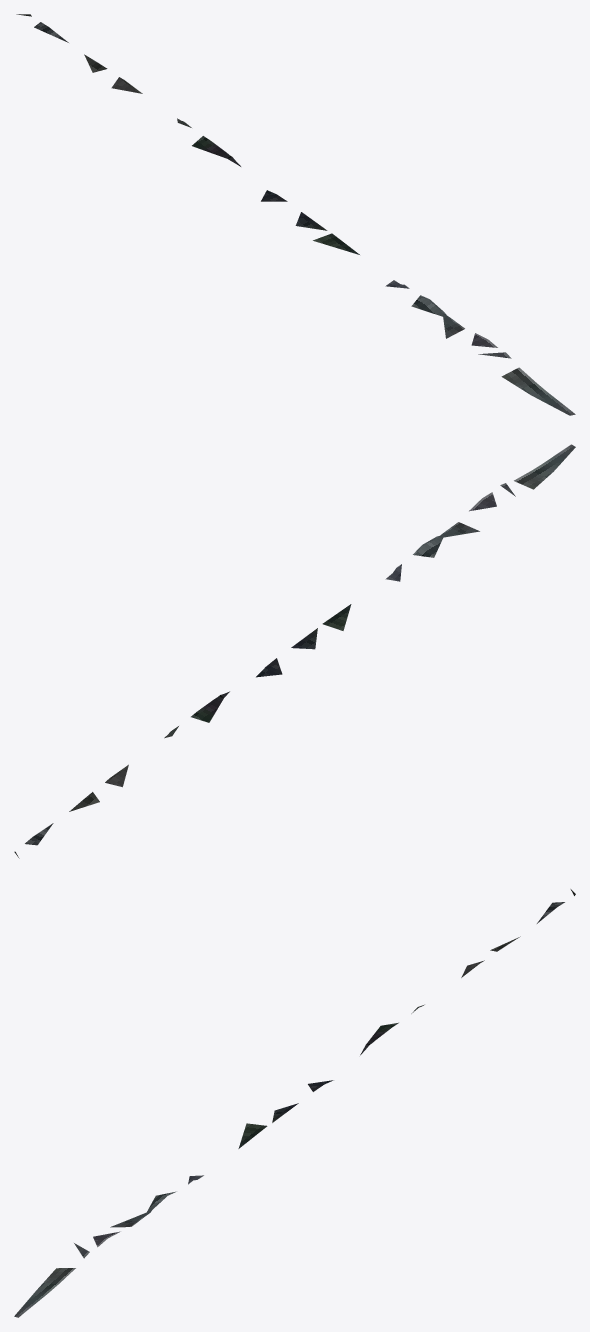
The model's file is Tile_000_003_L14_4341.glb.
3 views of the same model, one above another, from view 1: azimuth 30°, elevation 25°; view 2: azimuth 150°, elevation 25°; view 3: azimuth 330°, elevation 25° (orthographic). The views are drawn at different scales.
Parts seen in each view (by area): view 1: rtc; view 2: rtc; view 3: rtc.
Boxes of the visible parts, box(x1,y1,x2,y2) form: rtc: box(16, 14, 575, 415); rtc: box(14, 444, 575, 858); rtc: box(14, 889, 575, 1317).
Size of the model in its own units: 1.34 by 0.7039 by 54.51.
Materials: 1 (1 with a texture image).
